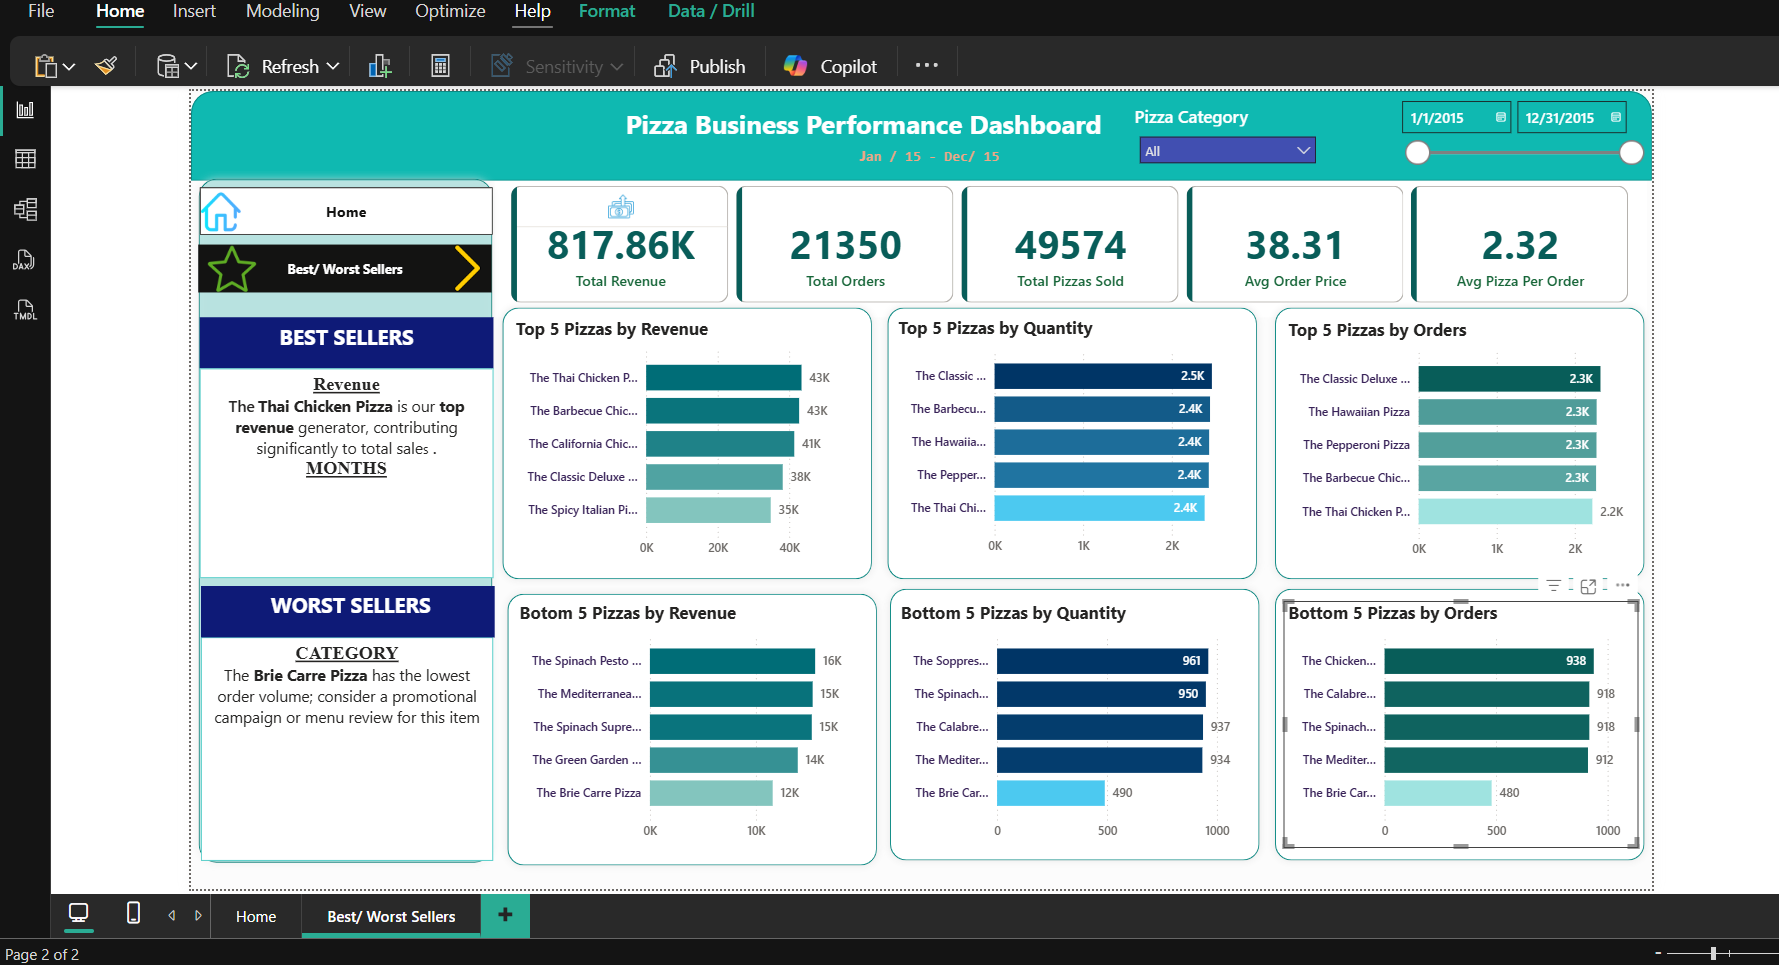

This screenshot's page, from the dashboard's own definition file:
{"tool":"powerbi","page":{"name":"Best/ Worst Sellers","canvas":[1500,820],"ordinal":1},"visuals":[{"type":"cardVisual","fields":{"Data":["pizza_sales.Total Revenue","pizza_sales.Total Orders","pizza_sales.Total Pizzas Sold","pizza_sales.Avg Order Price","pizza_sales.Avg Pizza Per Order"]},"box":[311.7,82.2,1183,150.2],"z":0},{"type":"shape","box":[0,0,1500.3,92.1],"z":1000},{"type":"textbox","box":[382.5,10,563.9,46.8],"z":2000},{"type":"textbox","box":[630.4,51,256.4,41.1],"z":3000},{"type":"shape","box":[311.7,213.9,395.3,295],"z":4000},{"type":"shape","box":[0,82.2,317.3,718.3],"z":5000},{"type":"textbox","box":[8.5,232.3,301.8,52.4],"z":6000},{"type":"textbox","box":[8.5,284.8,301.8,215.3],"z":7000},{"type":"textbox","box":[9.9,561,300.3,229.5],"z":8000},{"type":"textbox","box":[9.9,508.6,301.8,52.4],"z":9000},{"type":"slicer","title":"Pizza Category","fields":{"Values":["pizza_sales.order_date"]},"box":[1231.1,0,269.2,85],"z":10000},{"type":"slicer","title":"Pizza Category","fields":{"Values":["pizza_sales.pizza_category"]},"box":[963.5,14.3,201.2,85],"z":11000},{"type":"shape","box":[706.9,213.9,395.3,295],"z":12000},{"type":"shape","box":[1105.1,213.9,395.3,295],"z":13000},{"type":"shape","box":[317.3,508.6,395.3,295],"z":14000},{"type":"shape","box":[709.8,502.9,395.3,295],"z":15000},{"type":"shape","box":[1105.1,502.9,395.3,295],"z":16000},{"type":"barChart","title":"Top 5 Pizzas by Revenue","fields":{"Category":["pizza_sales.pizza_name"],"Y":["pizza_sales.Total Revenue"]},"box":[328.7,232.3,362.7,255],"z":17000},{"type":"barChart","title":"Top 5 Pizzas by Orders","fields":{"Category":["pizza_sales.pizza_name"],"Y":["pizza_sales.Total Orders"]},"box":[1122.1,233.8,362.7,255],"z":18000},{"type":"barChart","title":"Top 5 Pizzas by Quantity","fields":{"Category":["pizza_sales.pizza_name"],"Y":["Sum(pizza_sales.quantity)"]},"box":[722,231.6,363.4,254.1],"z":19000},{"type":"barChart","title":"Botom 5 Pizzas by Revenue","fields":{"Category":["pizza_sales.pizza_name"],"Y":["pizza_sales.Total Revenue"]},"box":[332.9,524.2,361.8,254.1],"z":20000},{"type":"barChart","title":"Bottom 5 Pizzas by Quantity","fields":{"Category":["pizza_sales.pizza_name"],"Y":["Sum(pizza_sales.quantity)"]},"box":[723.6,524.2,363.4,254.1],"z":21000},{"type":"barChart","title":"Bottom 5 Pizzas by Orders","fields":{"Category":["pizza_sales.pizza_name"],"Y":["pizza_sales.Total Orders"]},"box":[1122.4,524.2,363.4,254.1],"z":22000},{"type":"pageNavigator","box":[8.5,99.2,301.8,49.6],"z":23000},{"type":"pageNavigator","box":[7.1,157.3,301.8,49.6],"z":24000},{"type":"image","box":[9.9,100.6,41.1,48.2],"z":25000},{"type":"image","box":[259.3,157.3,49.6,48.2],"z":26000},{"type":"image","box":[7.1,157.3,69.4,49.6],"z":27000}]}

Visuals, with their boxes on the page's 1500x820 design canvas (x1, y1, x2, y2). These are canvas units, not pixel positions in the 1779x965 screenshot, which may show the page scaled, cropped or inside an application window:
cardVisual - pizza_sales.Total Revenue x pizza_sales.Total Orders: box=[312, 82, 1495, 232]
shape: box=[0, 0, 1500, 92]
textbox: box=[382, 10, 946, 57]
textbox: box=[630, 51, 887, 92]
shape: box=[312, 214, 707, 509]
shape: box=[0, 82, 317, 800]
textbox: box=[8, 232, 310, 285]
textbox: box=[8, 285, 310, 500]
textbox: box=[10, 561, 310, 790]
textbox: box=[10, 509, 312, 561]
"Pizza Category" slicer: box=[1231, 0, 1500, 85]
"Pizza Category" slicer: box=[964, 14, 1165, 99]
shape: box=[707, 214, 1102, 509]
shape: box=[1105, 214, 1500, 509]
shape: box=[317, 509, 713, 804]
shape: box=[710, 503, 1105, 798]
shape: box=[1105, 503, 1500, 798]
"Top 5 Pizzas by Revenue" barChart: box=[329, 232, 691, 487]
"Top 5 Pizzas by Orders" barChart: box=[1122, 234, 1485, 489]
"Top 5 Pizzas by Quantity" barChart: box=[722, 232, 1085, 486]
"Botom 5 Pizzas by Revenue" barChart: box=[333, 524, 695, 778]
"Bottom 5 Pizzas by Quantity" barChart: box=[724, 524, 1087, 778]
"Bottom 5 Pizzas by Orders" barChart: box=[1122, 524, 1486, 778]
pageNavigator: box=[8, 99, 310, 149]
pageNavigator: box=[7, 157, 309, 207]
image: box=[10, 101, 51, 149]
image: box=[259, 157, 309, 206]
image: box=[7, 157, 76, 207]
